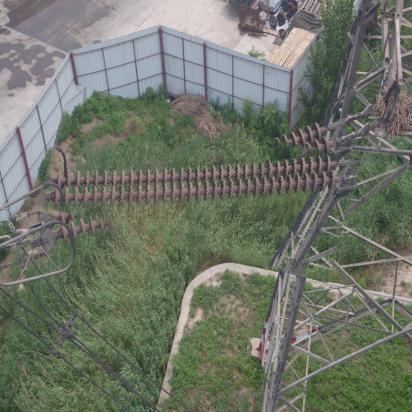insulator: (44, 103, 356, 267)
